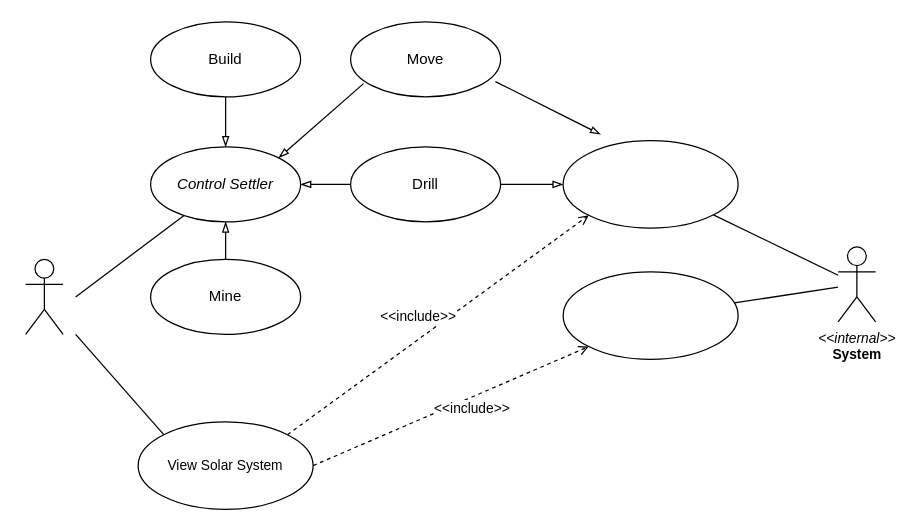
Image size: 918x531. Some labels were removed from this diagram. Here are the shapes that lost their labels. From the top down, the centre of each, then its label:
pixel 650 183: Control Robots
pixel 43 296: Player
pixel 650 315: Controll Solar Eruption
